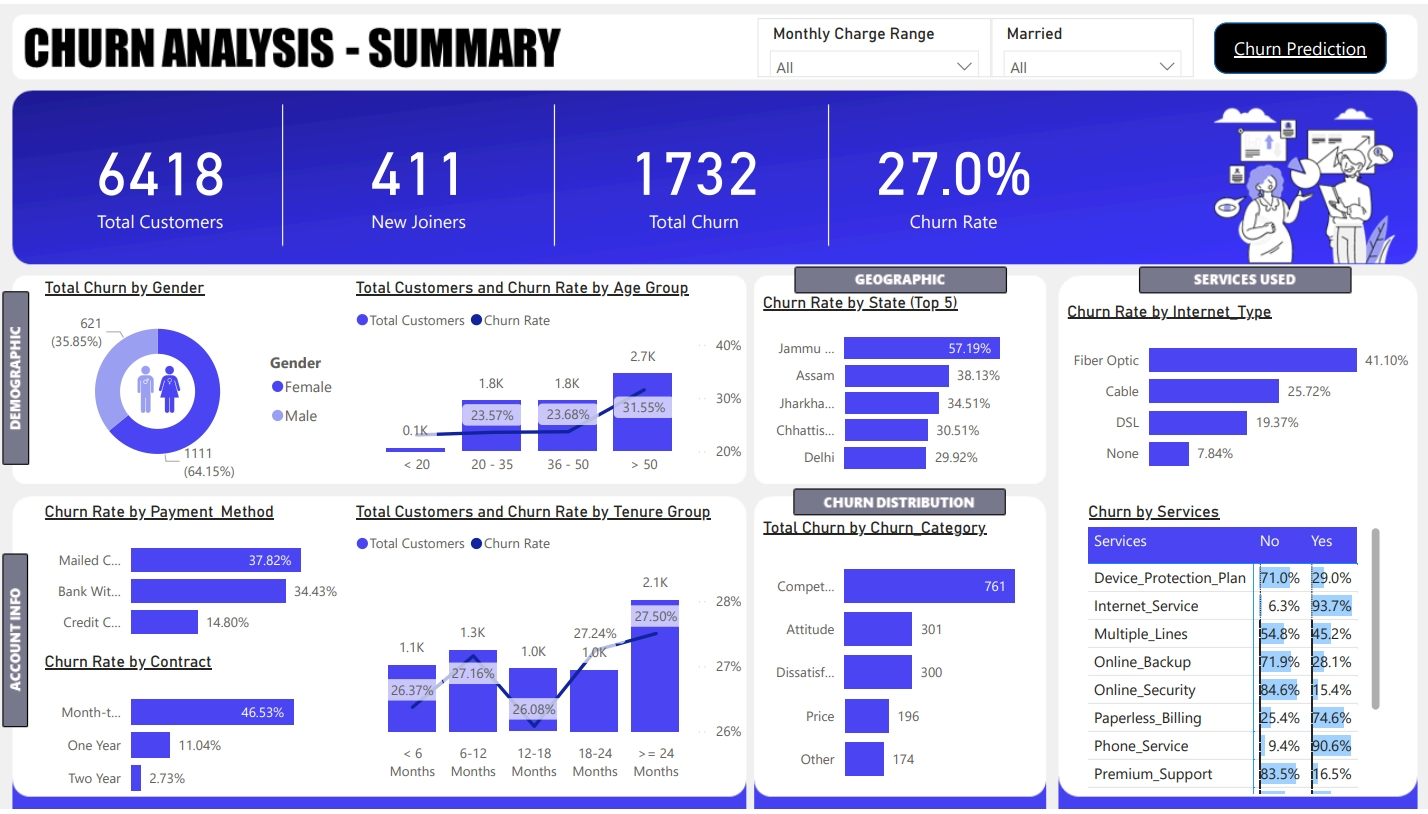

What the dashboard file says about the page in this screenshot:
{"tool":"powerbi","page":{"name":"Summary","canvas":[1280,720],"ordinal":0},"visuals":[{"type":"image","box":[68.6,317,111.1,49.4],"z":0},{"type":"card","fields":{"Values":["tbl_Measures.Total Customers"]},"box":[22,91.9,229.2,122.1],"z":1000},{"type":"card","fields":{"Values":["tbl_Measures.New Joiners"]},"box":[251.1,96.1,245.6,118],"z":2000},{"type":"card","fields":{"Values":["tbl_Measures.Total Churn"]},"box":[496.7,96.1,245.6,118],"z":3000},{"type":"card","fields":{"Values":["tbl_Measures.Churn Rate"]},"box":[742.4,91.9,215.4,122.1],"z":4000},{"type":"donutChart","fields":{"Y":["tbl_Measures.Total Churn"],"Category":["prod_Churn.Gender"]},"box":[35.7,260.7,245.6,145.5],"z":5000},{"type":"lineStackedColumnComboChart","fields":{"Y":["tbl_Measures.Total Customers"],"Y2":["tbl_Measures.Churn Rate"],"Category":["mapping_AgeGrp.Age Group"]},"box":[303.3,247,358.1,174.3],"z":6000},{"type":"clusteredBarChart","fields":{"Category":["prod_Churn.Payment_Method"],"Y":["tbl_Measures.Churn Rate"]},"box":[35.7,451.5,244.3,119.4],"z":7000},{"type":"clusteredBarChart","fields":{"Category":["prod_Churn.Contract"],"Y":["tbl_Measures.Churn Rate"]},"box":[32.9,573.6,248.4,123.5],"z":8000},{"type":"lineStackedColumnComboChart","fields":{"Category":["mapping_TenureGrp.Tenure Group"],"Y":["tbl_Measures.Total Customers"],"Y2":["tbl_Measures.Churn Rate"]},"box":[303.3,451.5,358.1,245.6],"z":9000},{"type":"clusteredBarChart","title":"Churn Rate by State (top 5)","fields":{"Category":["prod_Churn.State"],"Y":["tbl_Measures.Churn Rate"]},"box":[688.9,262.1,240.1,159.2],"z":10000},{"type":"clusteredBarChart","fields":{"Category":["prod_Churn.Churn_Category"],"Y":["tbl_Measures.Total Churn"]},"box":[688.9,470.7,240.1,226.4],"z":11000},{"type":"clusteredBarChart","fields":{"Category":["prod_Churn.Internet_Type"],"Y":["tbl_Measures.Churn Rate"]},"box":[974.3,262.1,281.3,159.2],"z":12000},{"type":"pivotTable","title":"Churn By Services","fields":{"Rows":["prod_Services.Services"],"Columns":["prod_Services.Status"],"Values":["Sum(prod_Services.Churn Status)"]},"box":[974.3,439.1,262.1,256.6],"z":13000},{"type":"slicer","fields":{"Values":["prod_Services.Monthly Charge Status"]},"box":[556.6,10.4,231.3,62.7],"z":14000},{"type":"slicer","fields":{"Values":["prod_Services.Married"]},"box":[787.9,10.4,210.4,62.7],"z":15000},{"type":"shape","box":[1035.6,14.9,204.4,47.8],"z":15001}]}

Visuals, with their boxes in screenshot pixels (x1, y1, x2, y2), scaled from the page's 1280x720 canvas onto the 1428x814 screenshot:
image: BBox(77, 358, 200, 414)
card - tbl_Measures.Total Customers: BBox(25, 104, 280, 242)
card - tbl_Measures.New Joiners: BBox(280, 109, 554, 242)
card - tbl_Measures.Total Churn: BBox(554, 109, 828, 242)
card - tbl_Measures.Churn Rate: BBox(828, 104, 1069, 242)
donutChart - tbl_Measures.Total Churn x prod_Churn.Gender: BBox(40, 295, 314, 459)
lineStackedColumnComboChart - tbl_Measures.Total Customers x tbl_Measures.Churn Rate: BBox(338, 279, 738, 476)
clusteredBarChart - prod_Churn.Payment_Method x tbl_Measures.Churn Rate: BBox(40, 510, 312, 645)
clusteredBarChart - prod_Churn.Contract x tbl_Measures.Churn Rate: BBox(37, 648, 314, 788)
lineStackedColumnComboChart - mapping_TenureGrp.Tenure Group x tbl_Measures.Total Customers: BBox(338, 510, 738, 788)
"Churn Rate by State (top 5)" clusteredBarChart: BBox(769, 296, 1036, 476)
clusteredBarChart - prod_Churn.Churn_Category x tbl_Measures.Total Churn: BBox(769, 532, 1036, 788)
clusteredBarChart - prod_Churn.Internet_Type x tbl_Measures.Churn Rate: BBox(1087, 296, 1401, 476)
"Churn By Services" pivotTable: BBox(1087, 496, 1379, 787)
slicer - prod_Services.Monthly Charge Status: BBox(621, 12, 879, 83)
slicer - prod_Services.Married: BBox(879, 12, 1114, 83)
shape: BBox(1155, 17, 1383, 71)
